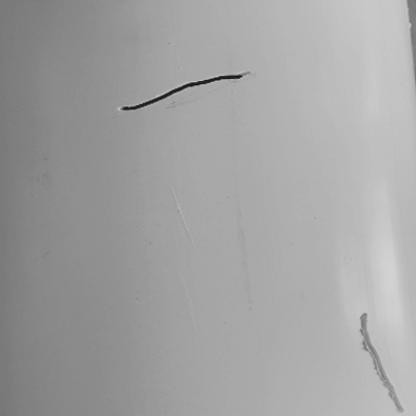fengxi: (120, 71, 248, 112)
sunshang: (355, 312, 406, 416)
